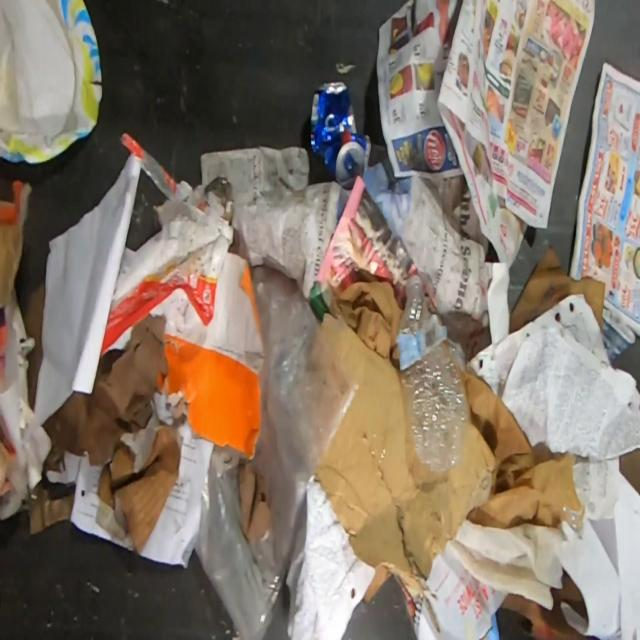cardboard: (313, 276, 586, 603), (101, 177, 234, 353), (157, 334, 260, 457), (478, 568, 601, 640), (509, 243, 606, 333), (121, 132, 200, 213), (28, 484, 74, 534), (0, 412, 17, 499), (620, 448, 640, 495)
metal: (311, 80, 371, 188)
rigid_plastic: (397, 272, 471, 474)
soft_plastic: (195, 261, 361, 640)
